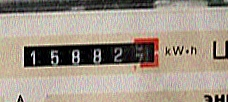1: (28, 51, 37, 67)
2: (112, 47, 122, 64)
5: (49, 50, 59, 66)
7: (134, 53, 143, 65)
8: (70, 50, 80, 67), (91, 49, 101, 66)
screen: (16, 35, 165, 78)
